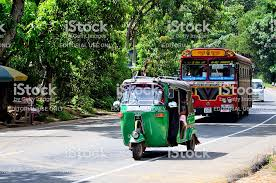tuk tuk: (118, 77, 200, 161)
